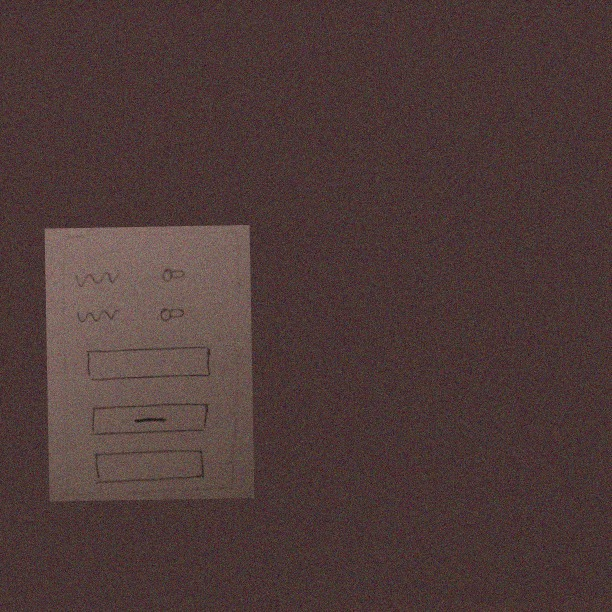button: (86, 399, 213, 440)
switch: (155, 305, 188, 324), (157, 264, 187, 284)
text: (71, 268, 124, 292), (75, 305, 123, 331)
text_input: (83, 344, 213, 384), (88, 447, 209, 486)
